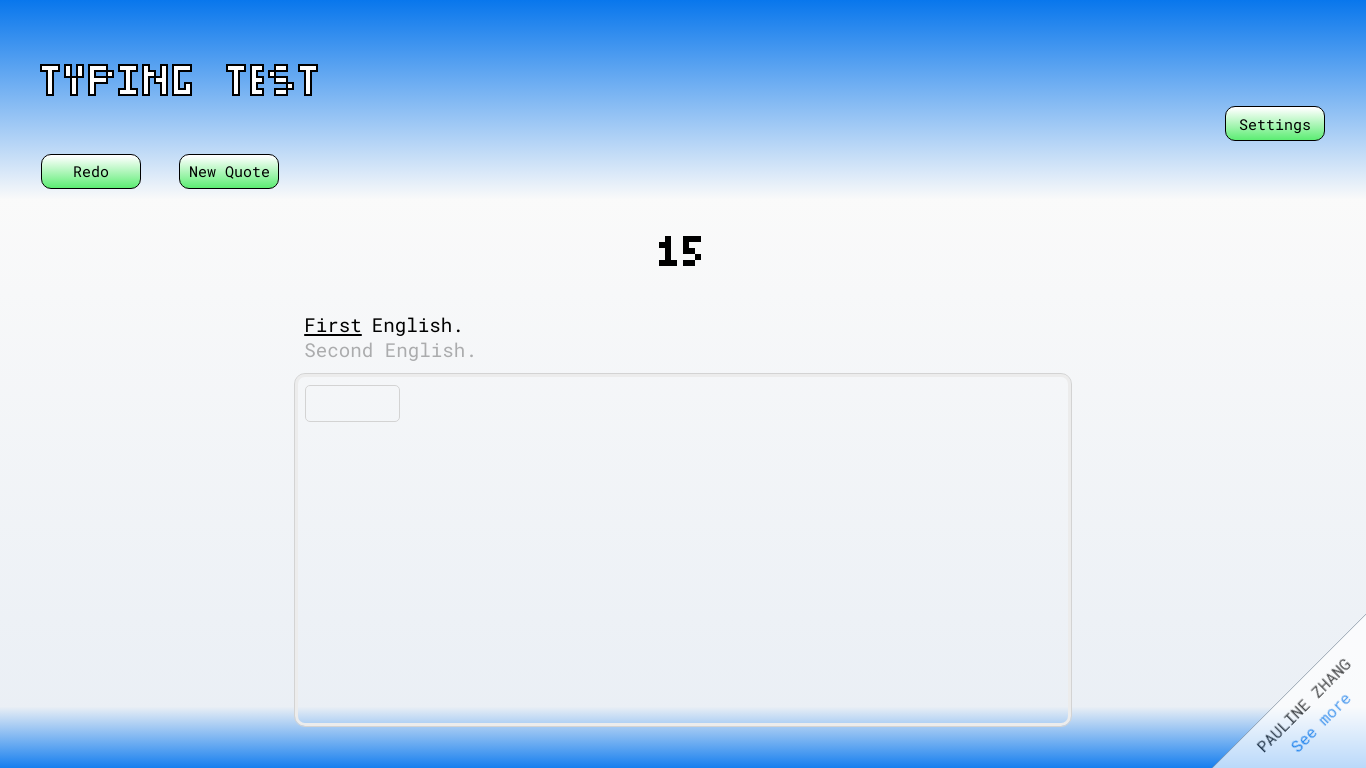
Test: Main and Settings › resets test with updated time and language
The width and height of the screenshot is (1366, 768).
Step 1. Click the button with test id "settings" → click(1275, 124), box x1=1225 y1=106 x2=1325 y2=141
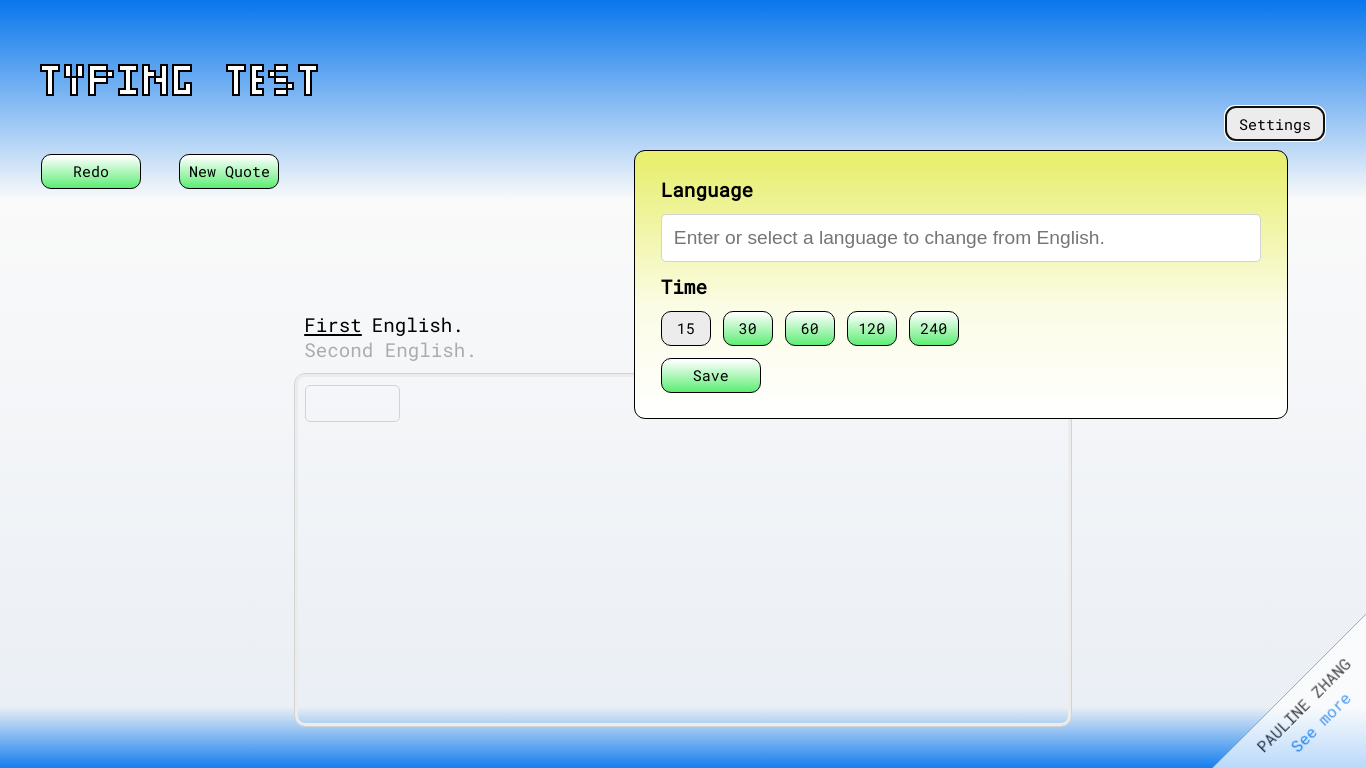
Step 2. Click the field with test id "langInputField" → click(961, 238), box x1=661 y1=214 x2=1261 y2=262
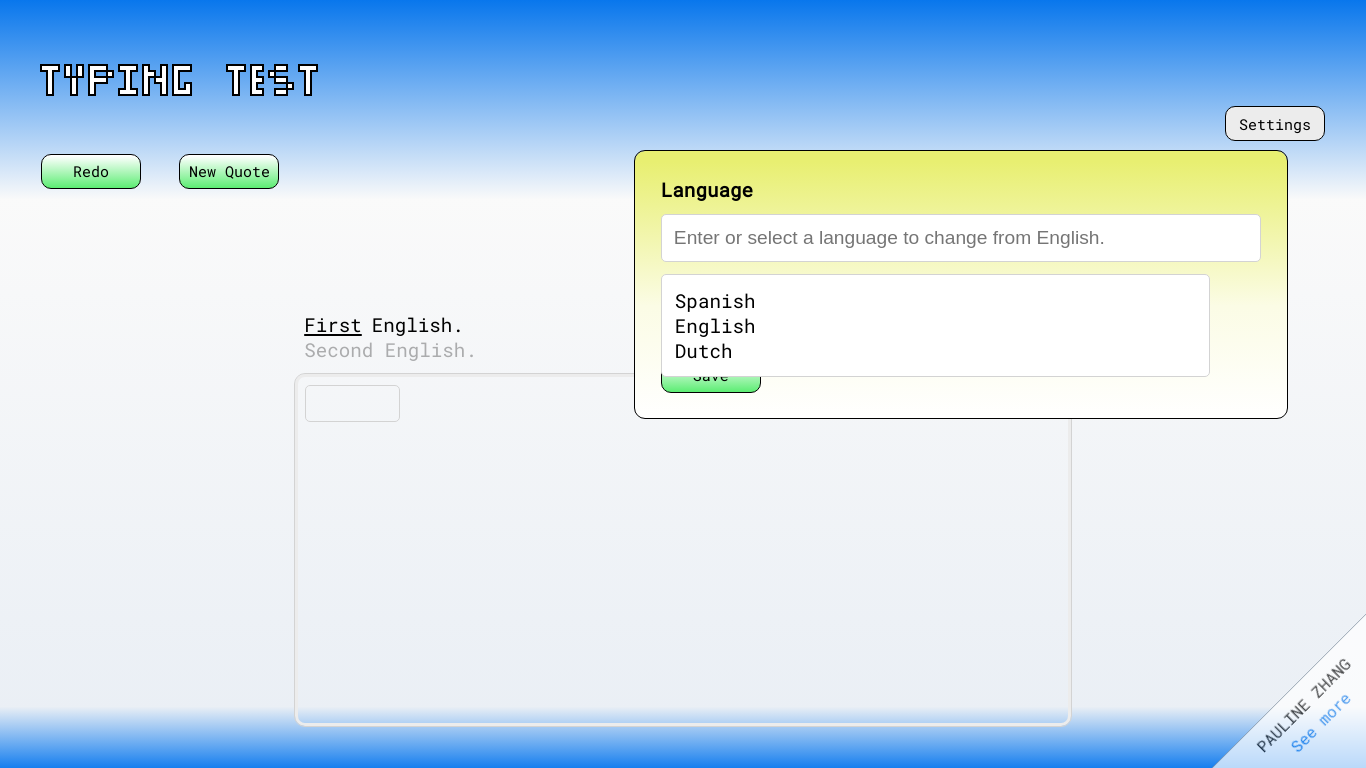
Step 3. Click the list item "Spanish" → click(715, 300), box x1=675 y1=288 x2=756 y2=313
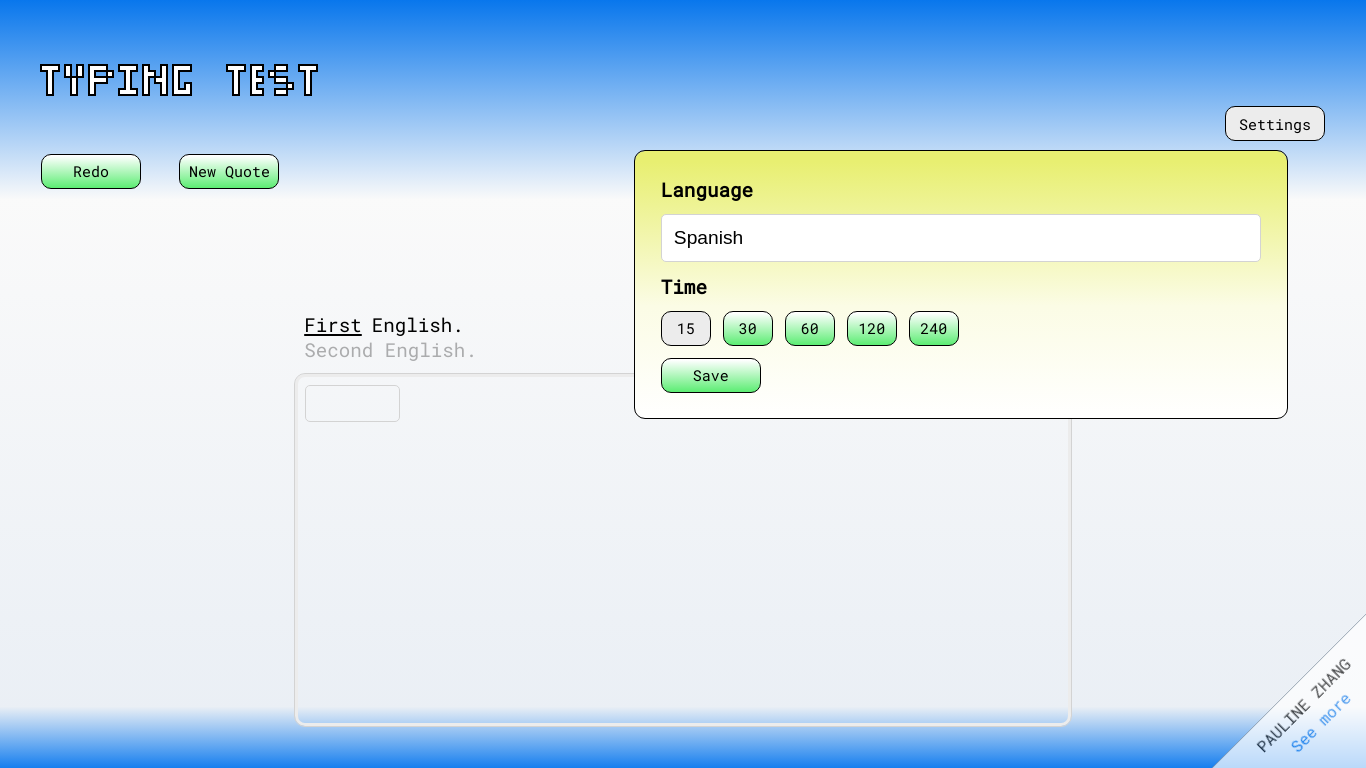
Step 4. Click the button "30" → click(748, 328), box x1=723 y1=311 x2=773 y2=346
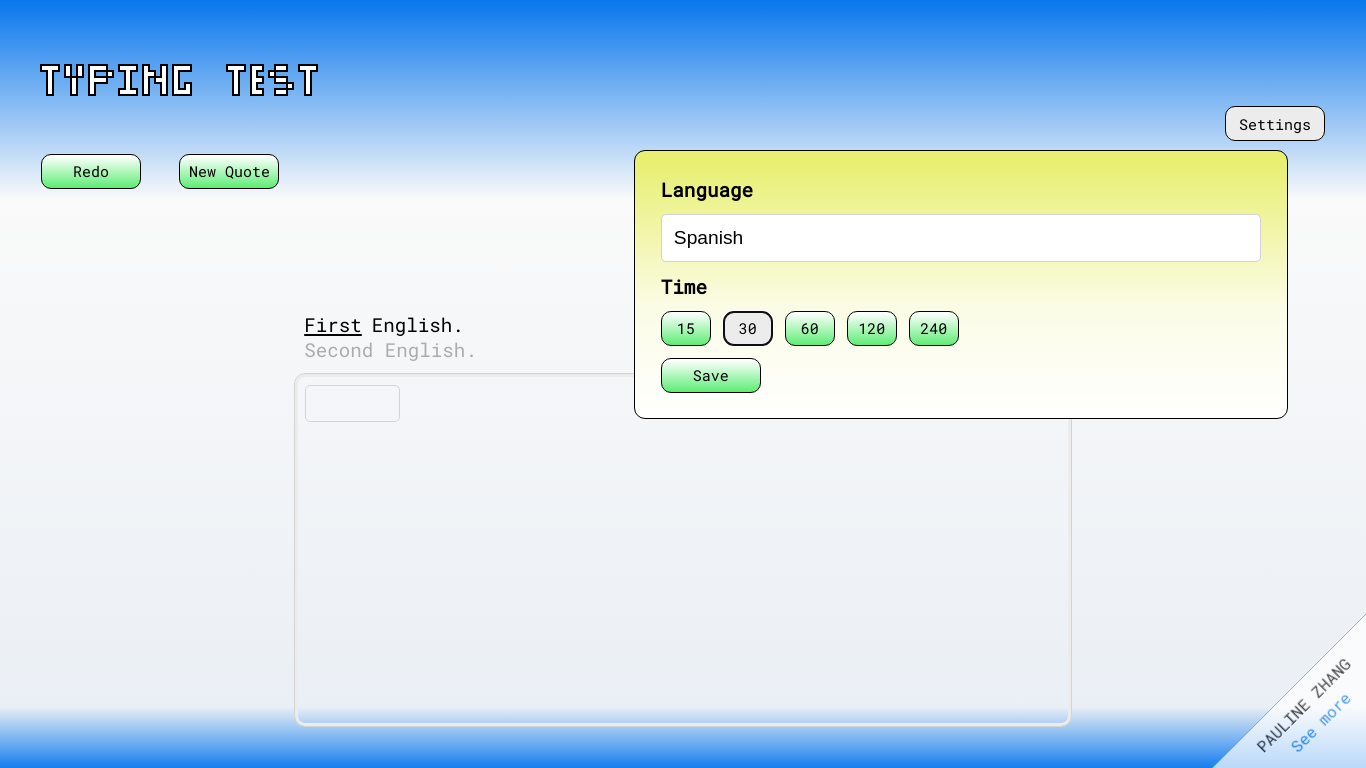
Step 5. Click the button with test id "save" → click(711, 375), box x1=661 y1=358 x2=761 y2=393
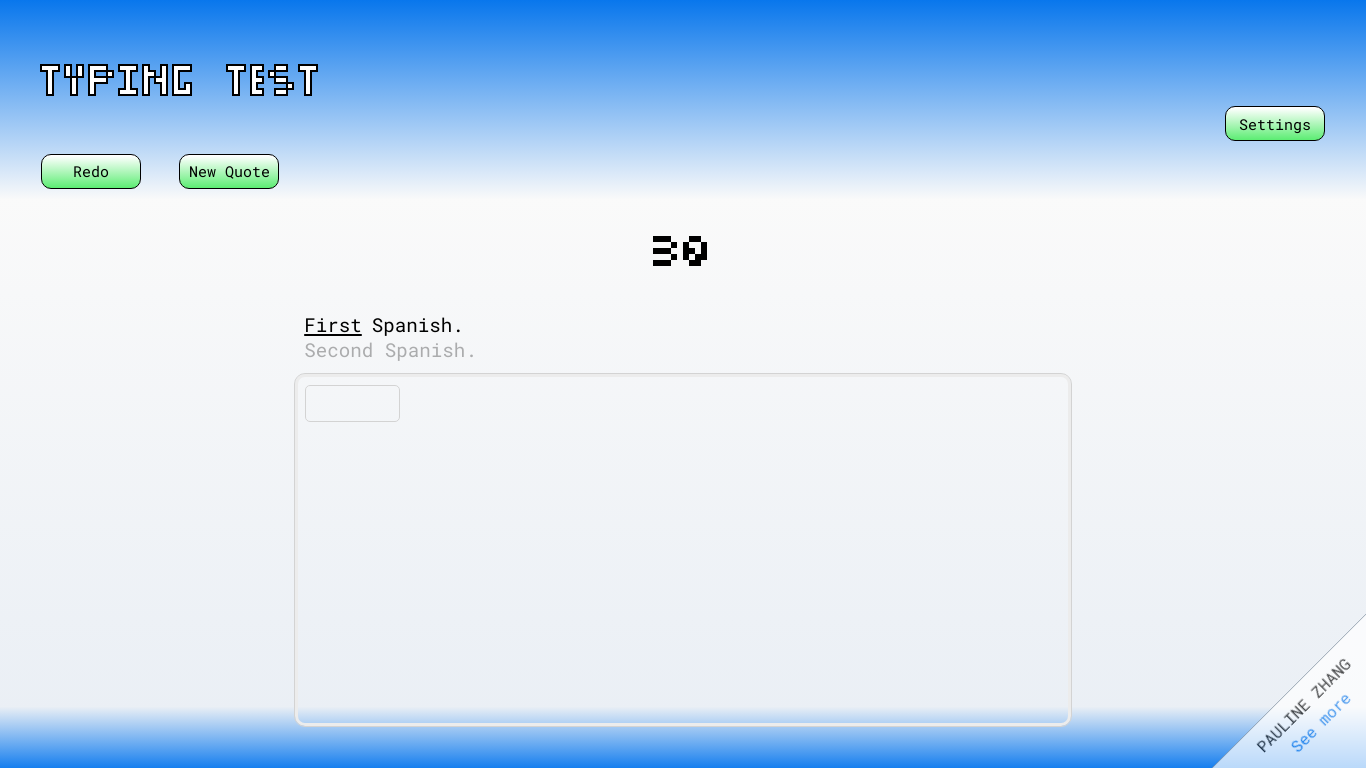
Result: the text with test id "timer" reads "30" at x1=653 y1=202 x2=713 y2=272
Result: the text with test id "nxtQuote" reads "Second Spanish." at x1=304 y1=337 x2=477 y2=362
